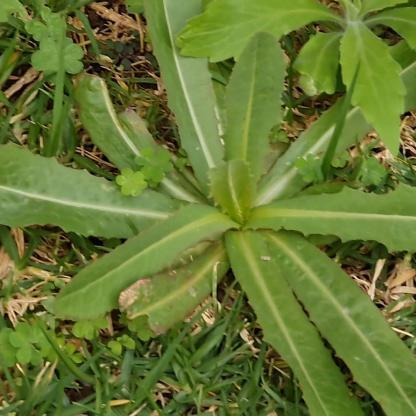Weeds: (4, 2, 415, 415), (177, 0, 415, 166)
